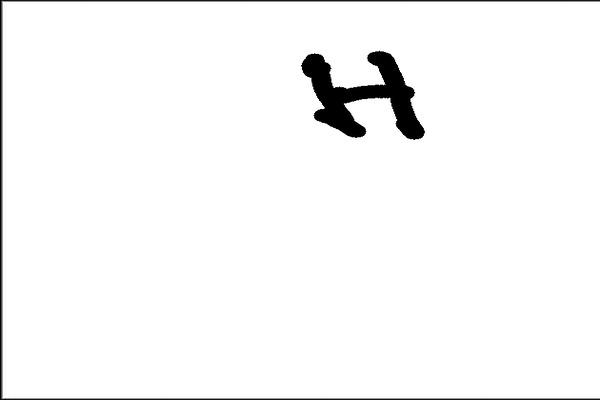H: (293, 43, 431, 157)
